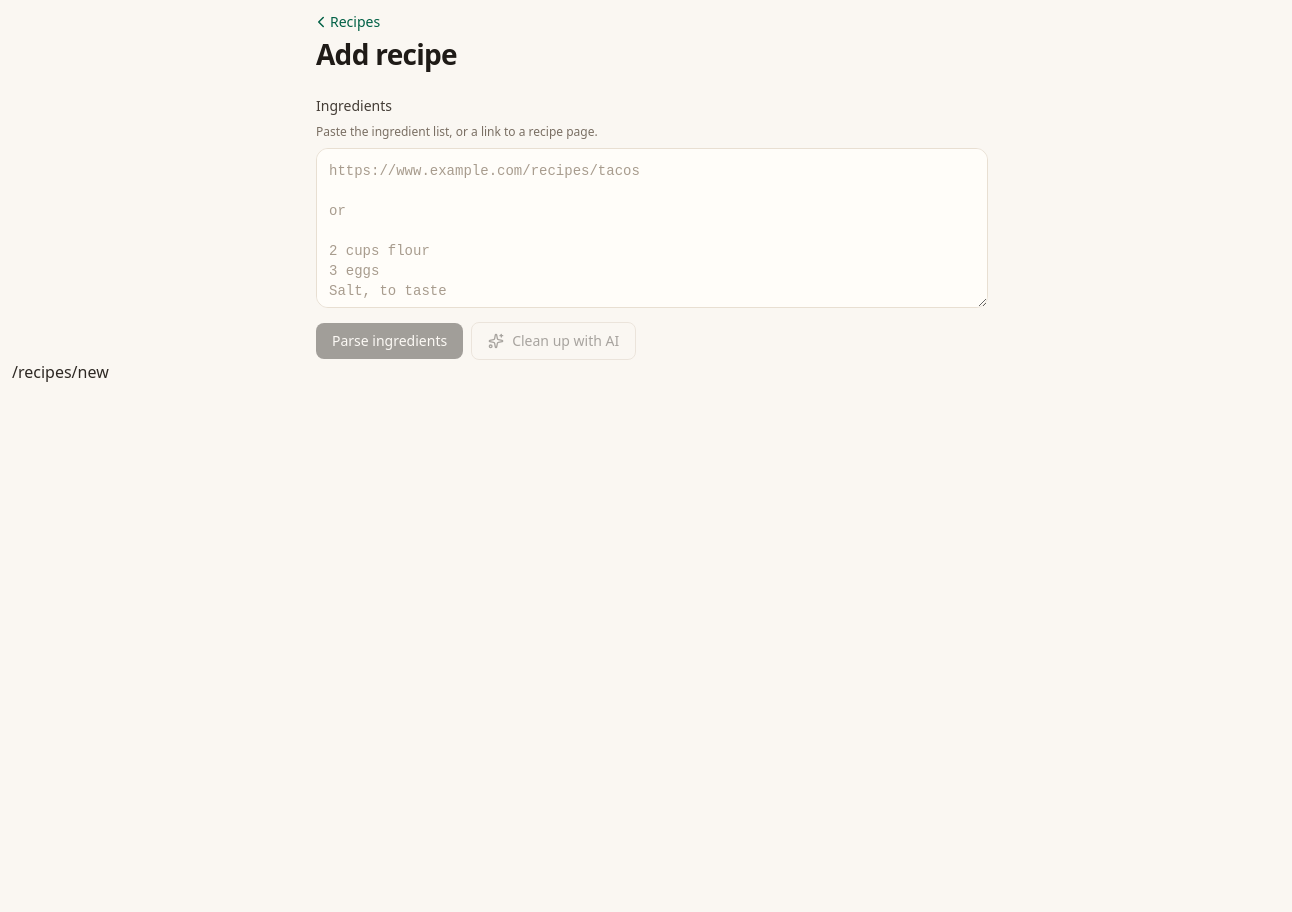
Test: RecipeEditorScreen: AI › hides Clean up with AI after a clean-up until the text changes
Type "Grandma used 2 cups flour and eggs" into the text box labelled "Ingredients". click: (652,228)
box: top-left (316, 148), bottom-right (988, 308)
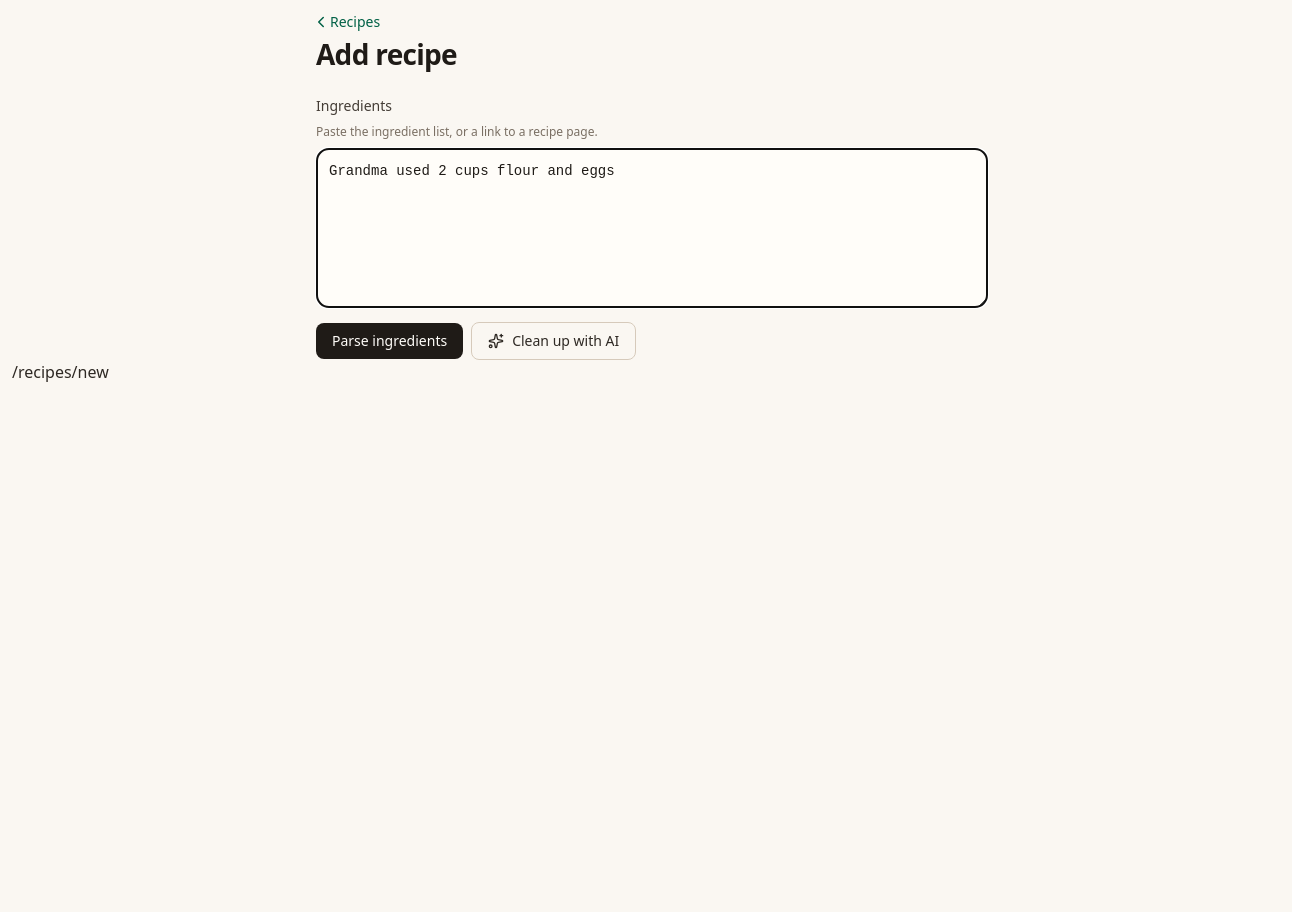
Expected: the button "Clean up with AI" is enabled
Click the button "Clean up with AI". click: (554,341)
box: top-left (471, 322), bottom-right (636, 360)
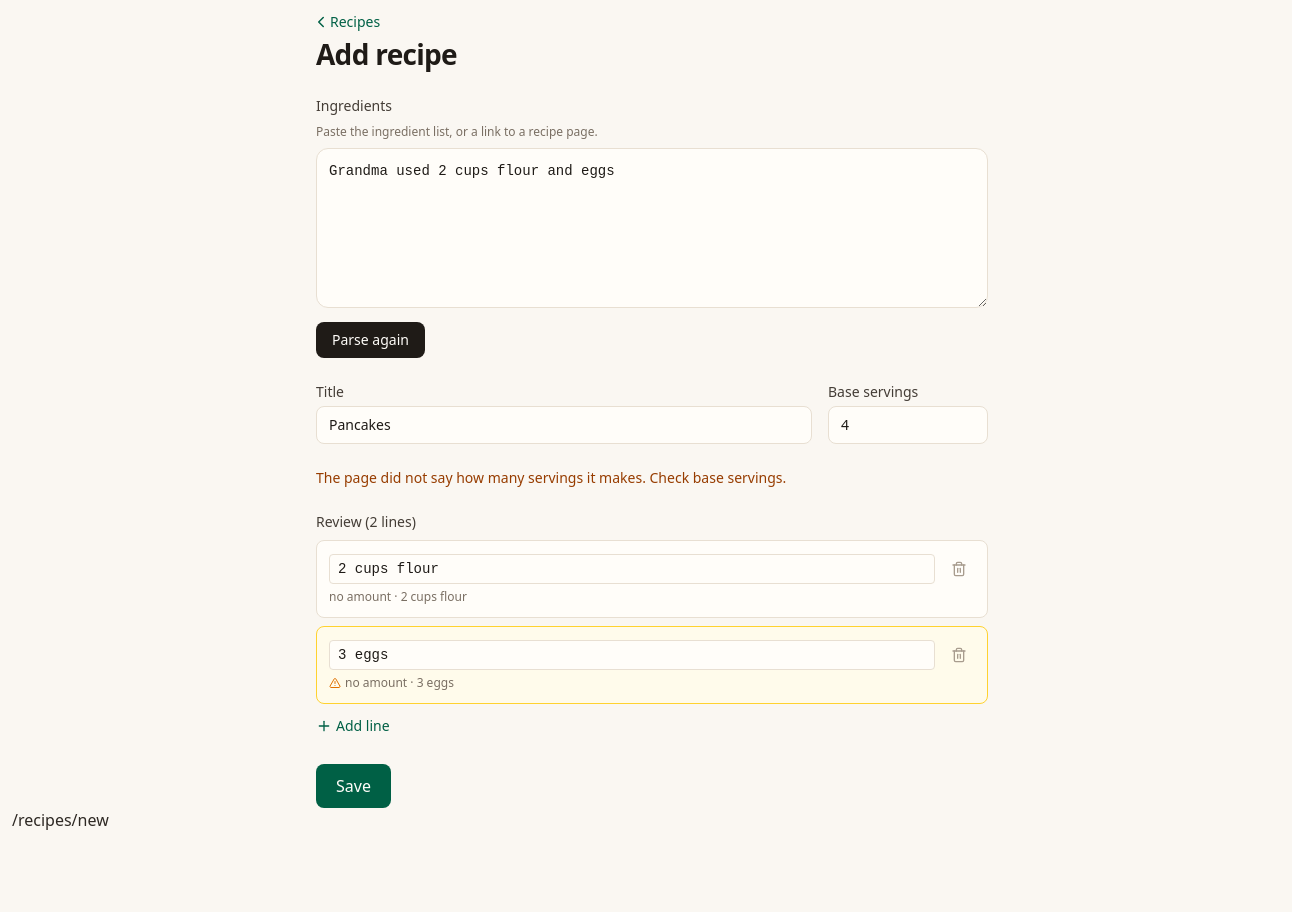
Expected: the heading "Review (2 lines)" is shown, top-left (316, 512), bottom-right (416, 531)
Expected: the button "Clean up with AI" is gone
Type " and milk" into the text box labelled "Ingredients". click: (652,228)
box: top-left (316, 148), bottom-right (988, 308)
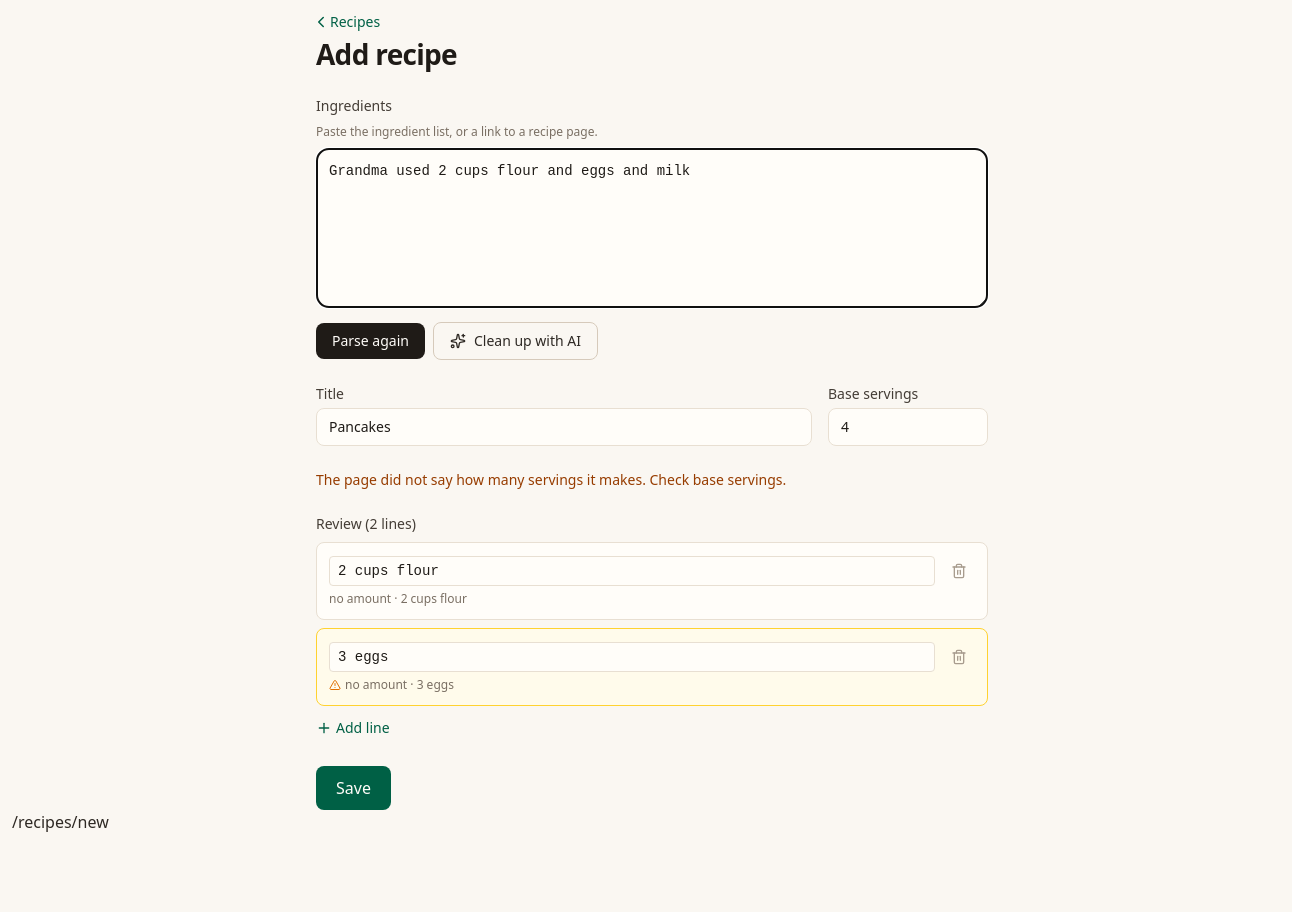
Expected: the button "Clean up with AI" is shown, top-left (433, 322), bottom-right (598, 360)
